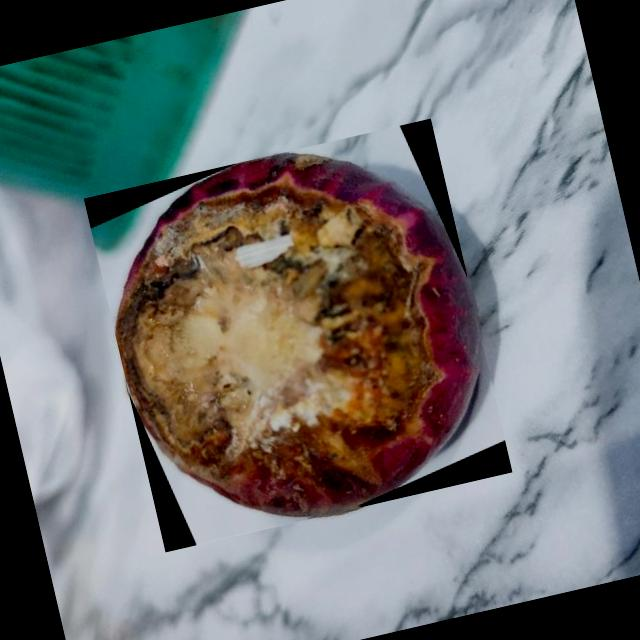rotten: (117, 154, 480, 515)
